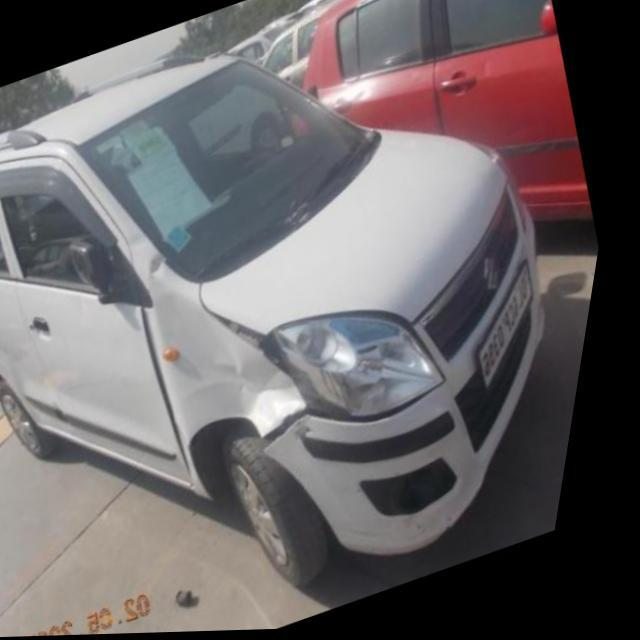dent: (202, 351, 284, 425), (152, 251, 179, 288)
dislocated part: (223, 307, 404, 427), (147, 302, 205, 478), (273, 401, 326, 462)
